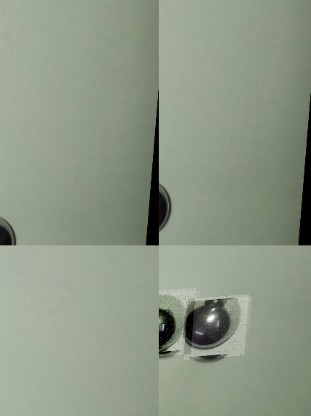ironball: (188, 297, 242, 347), (159, 289, 188, 357), (158, 178, 174, 235), (0, 214, 20, 244)
